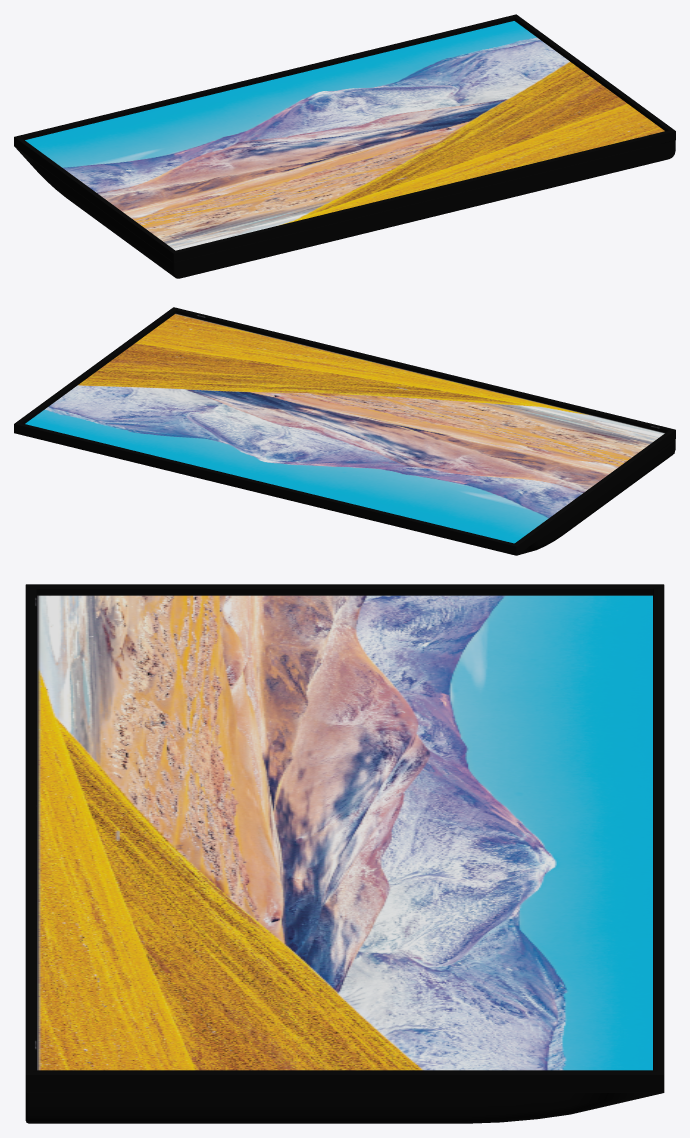
Rendered from electronic_11_02.001.fbx.
The picture shows the model from 3 angles, top to bottom: view 1: azimuth 30°, elevation 25°; view 2: azimuth 150°, elevation 25°; view 3: azimuth 270°, elevation 25°; orthographic projection. The views are drawn at different scales.
Parts seen in each view (by area): view 1: electronic_11_02.001; view 2: electronic_11_02.001; view 3: electronic_11_02.001.
Boxes of the visible parts, <box> form: electronic_11_02.001: <box>14,14,675,278</box>; electronic_11_02.001: <box>14,307,675,555</box>; electronic_11_02.001: <box>25,584,664,1123</box>.
Size of the model in its own units: 167 by 8.63 by 92.04.
Materials: 1 (1 with a texture image).
